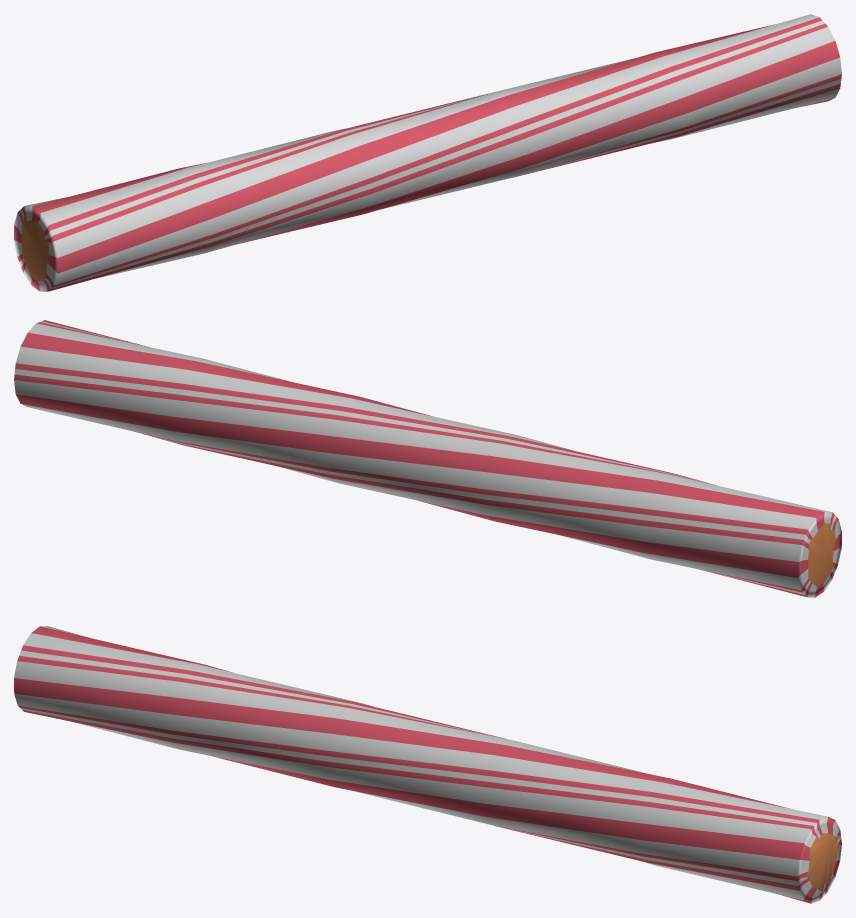
Rendered from CandyTwirl.fbx.
The picture shows the model from 3 angles, top to bottom: view 1: azimuth 30°, elevation 25°; view 2: azimuth 150°, elevation 25°; view 3: azimuth 330°, elevation 25°; orthographic projection.
Parts seen in each view (by area): view 1: CandyTwirl; view 2: CandyTwirl; view 3: CandyTwirl.
Part boxes in pixels (box(x1,y1,x2,y2)): CandyTwirl: box(14, 14, 841, 291); CandyTwirl: box(14, 320, 841, 597); CandyTwirl: box(14, 626, 841, 903).
Size of the model in its own units: 384 by 37.67 by 37.67.
